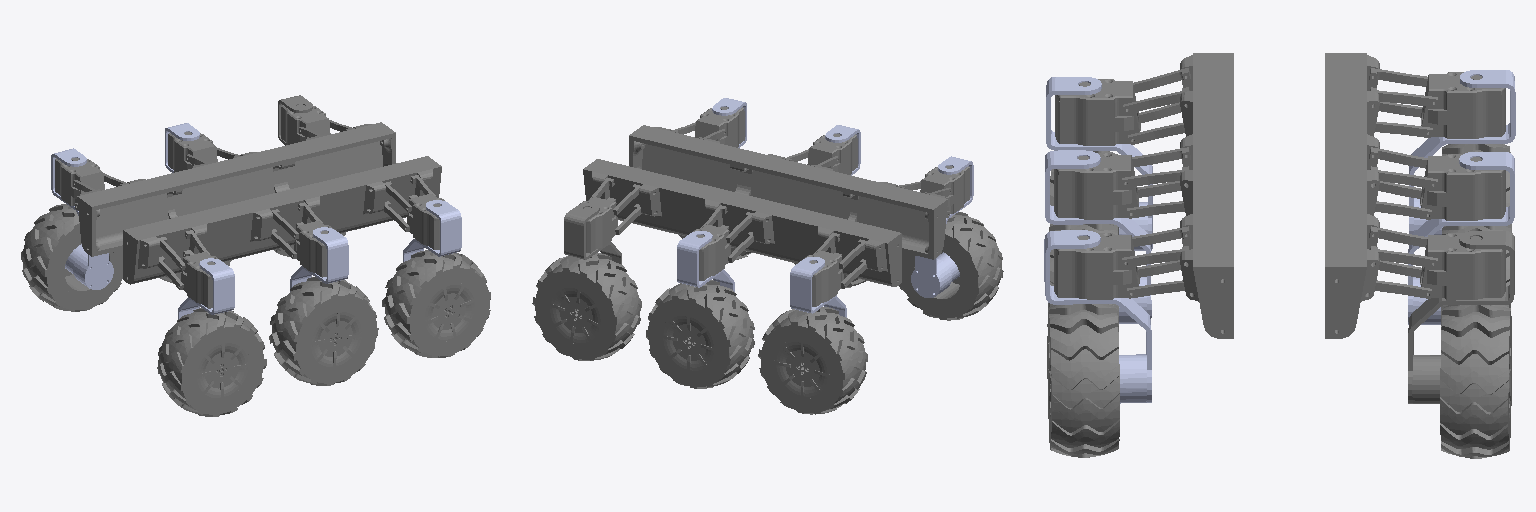
The robot description file, URDF, robot "argo_mini_urdf_6w_drive":
<?xml version="1.0" encoding="utf-8"?>
<!-- This URDF was automatically created by SolidWorks to URDF Exporter! Originally created by [author] ([email redacted]) 
     Commit Version: 1.6.0-1-g15f4949  Build Version: 1.6.7594.29634
     For more information, please see http://wiki.ros.org/sw_urdf_exporter -->
<robot
  name="argo_mini_urdf_6w_drive">
  <link
    name="drive_base">
    <inertial>
      <origin
        xyz="0.00874563254959665 -0.00236660328150901 -0.0490854383415856"
        rpy="0 0 0" />
      <mass
        value="1.44946621413433" />
      <inertia
        ixx="0.000848127350529093"
        ixy="-3.43805868688839E-10"
        ixz="-2.58382326226388E-06"
        iyy="0.00223379652936475"
        iyz="-1.68220537133253E-07"
        izz="0.00205727407895167" />
    </inertial>
    <visual>
      <origin
        xyz="0 0 0"
        rpy="0 0 0" />
      <geometry>
        <mesh
          filename="package://argo_mini_urdf_6w_drive/meshes/drive_base.STL" />
      </geometry>
      <material
        name="">
        <color
          rgba="0.564705882352941 0.564705882352941 0.564705882352941 1" />
      </material>
    </visual>
    <collision>
      <origin
        xyz="0 0 0"
        rpy="0 0 0" />
      <geometry>
        <mesh
          filename="package://argo_mini_urdf_6w_drive/meshes/drive_base.STL" />
      </geometry>
    </collision>
  </link>
  <link
    name="front_left_turn_link">
    <inertial>
      <origin
        xyz="-0.0202008319337566 -0.000537923907060631 0.108888065561637"
        rpy="0 0 0" />
      <mass
        value="0.0791651660643748" />
      <inertia
        ixx="8.14759788204637E-05"
        ixy="-1.4633291055377E-06"
        ixz="4.3701071628893E-05"
        iyy="0.000136389884985275"
        iyz="1.16370713166833E-06"
        izz="7.36288671954574E-05" />
    </inertial>
    <visual>
      <origin
        xyz="0 0 0"
        rpy="0 0 0" />
      <geometry>
        <mesh
          filename="package://argo_mini_urdf_6w_drive/meshes/front_left_turn_link.STL" />
      </geometry>
      <material
        name="">
        <color
          rgba="0.564705882352941 0.564705882352941 0.564705882352941 1" />
      </material>
    </visual>
    <collision>
      <origin
        xyz="0 0 0"
        rpy="0 0 0" />
      <geometry>
        <mesh
          filename="package://argo_mini_urdf_6w_drive/meshes/front_left_turn_link.STL" />
      </geometry>
    </collision>
  </link>
  <joint
    name="front_left_turn"
    type="revolute">
    <origin
      xyz="0.174999999976252 0.166487345210005 -0.0205134953134593"
      rpy="3.14159265358973 0 1.5707963267949" />
    <parent
      link="drive_base" />
    <child
      link="front_left_turn_link" />
    <axis
      xyz="0 0 1" />
    <limit
      lower="-3.14"
      upper="3.14"
      effort="100"
      velocity="3.14" />
  </joint>
  <link
    name="front_left_wheel_link">
    <inertial>
      <origin
        xyz="-0.000455402131096294 0.000455401371828285 0.0312563718756475"
        rpy="0 0 0" />
      <mass
        value="0.60129819266432" />
      <inertia
        ixx="0.000951600981300395"
        ixy="2.75877628912191E-08"
        ixz="6.32205201106246E-12"
        iyy="0.000951600976671848"
        iyz="1.04425032891631E-11"
        izz="0.00155374038149821" />
    </inertial>
    <visual>
      <origin
        xyz="0 0 0"
        rpy="0 0 0" />
      <geometry>
        <mesh
          filename="package://argo_mini_urdf_6w_drive/meshes/front_left_wheel_link.STL" />
      </geometry>
      <material
        name="">
        <color
          rgba="0.564705882352941 0.564705882352941 0.564705882352941 1" />
      </material>
    </visual>
    <collision>
      <origin
        xyz="0 0 0"
        rpy="0 0 0" />
      <geometry>
        <mesh
          filename="package://argo_mini_urdf_6w_drive/meshes/front_left_wheel_link.STL" />
      </geometry>
    </collision>
  </link>
  <joint
    name="front_left_wheel"
    type="continuous">
    <origin
      xyz="-0.0299893692365746 -0.000798580917134806 0.138500000000019"
      rpy="-1.5707963267947 -0.160752584870144 -1.54417381740566" />
    <parent
      link="front_left_turn_link" />
    <child
      link="front_left_wheel_link" />
    <axis
      xyz="0 0 -1" />
  </joint>
  <link
    name="front_right_turn_link">
    <inertial>
      <origin
        xyz="0.0201980896108885 -0.000632573365492203 0.10888806556058"
        rpy="0 0 0" />
      <mass
        value="0.0791651660643748" />
      <inertia
        ixx="8.14909084765224E-05"
        ixy="1.72091256971028E-06"
        ixz="-4.36951390792019E-05"
        iyy="0.000136385812542526"
        iyz="1.3684650711227E-06"
        izz="7.3618009982148E-05" />
    </inertial>
    <visual>
      <origin
        xyz="0 0 0"
        rpy="0 0 0" />
      <geometry>
        <mesh
          filename="package://argo_mini_urdf_6w_drive/meshes/front_right_turn_link.STL" />
      </geometry>
      <material
        name="">
        <color
          rgba="0.792156862745098 0.819607843137255 0.933333333333333 1" />
      </material>
    </visual>
    <collision>
      <origin
        xyz="0 0 0"
        rpy="0 0 0" />
      <geometry>
        <mesh
          filename="package://argo_mini_urdf_6w_drive/meshes/front_right_turn_link.STL" />
      </geometry>
    </collision>
  </link>
  <joint
    name="front_right_turn"
    type="revolute">
    <origin
      xyz="0.175000000022759 -0.178829853919777 -0.0200480862545637"
      rpy="3.14159265358964 0 1.5707963267949" />
    <parent
      link="drive_base" />
    <child
      link="front_right_turn_link" />
    <axis
      xyz="0 0 1" />
    <limit
      lower="-3.14"
      upper="3.14"
      effort="100"
      velocity="3.14" />
  </joint>
  <link
    name="front_right_wheel_link">
    <inertial>
      <origin
        xyz="0.000199018339452378 0.000612514003356546 0.0312563685802602"
        rpy="0 0 0" />
      <mass
        value="0.601298194339803" />
      <inertia
        ixx="0.000951623304607226"
        ixy="-1.62137429309689E-08"
        ixz="1.04244034516537E-11"
        iyy="0.000951578659069523"
        iyz="-5.15458315408172E-12"
        izz="0.00155374038618906" />
    </inertial>
    <visual>
      <origin
        xyz="0 0 0"
        rpy="0 0 0" />
      <geometry>
        <mesh
          filename="package://argo_mini_urdf_6w_drive/meshes/front_right_wheel_link.STL" />
      </geometry>
      <material
        name="">
        <color
          rgba="0.564705882352941 0.564705882352941 0.564705882352941 1" />
      </material>
    </visual>
    <collision>
      <origin
        xyz="0 0 0"
        rpy="0 0 0" />
      <geometry>
        <mesh
          filename="package://argo_mini_urdf_6w_drive/meshes/front_right_wheel_link.STL" />
      </geometry>
    </collision>
  </link>
  <joint
    name="front_right_wheel"
    type="continuous">
    <origin
      xyz="0.0299852980910073 -0.000939093798454305 0.138500000000011"
      rpy="-1.57079632679492 1.00237235232291 1.53948808645332" />
    <parent
      link="front_right_turn_link" />
    <child
      link="front_right_wheel_link" />
    <axis
      xyz="0 0 -1" />
  </joint>
  <link
    name="mid_left_turn_link">
    <inertial>
      <origin
        xyz="-0.0202067360647799 -0.000225367594505477 0.108888065559684"
        rpy="0 0 0" />
      <mass
        value="0.0791651660643748" />
      <inertia
        ixx="8.14438517875642E-05"
        ixy="-6.13252847421405E-07"
        ixz="4.37138442152049E-05"
        iyy="0.000136422012018174"
        iyz="4.87544593739856E-07"
        izz="7.36288671954575E-05" />
    </inertial>
    <visual>
      <origin
        xyz="0 0 0"
        rpy="0 0 0" />
      <geometry>
        <mesh
          filename="package://argo_mini_urdf_6w_drive/meshes/mid_left_turn_link.STL" />
      </geometry>
      <material
        name="">
        <color
          rgba="0.792156862745098 0.819607843137255 0.933333333333333 1" />
      </material>
    </visual>
    <collision>
      <origin
        xyz="0 0 0"
        rpy="0 0 0" />
      <geometry>
        <mesh
          filename="package://argo_mini_urdf_6w_drive/meshes/mid_left_turn_link.STL" />
      </geometry>
    </collision>
  </link>
  <joint
    name="mid_left_turn"
    type="revolute">
    <origin
      xyz="0.00999999997632967 0.166445170850159 -0.0207342759100906"
      rpy="-3.14159265358978 0 1.5707963267949" />
    <parent
      link="drive_base" />
    <child
      link="mid_left_turn_link" />
    <axis
      xyz="0 0 1" />
    <limit
      lower="-3.14"
      upper="3.14"
      effort="100"
      velocity="3.14" />
  </joint>
  <link
    name="mid_left_wheel_link">
    <inertial>
      <origin
        xyz="-0.000199018193523415 0.000612513923196736 0.0312563718801634"
        rpy="0 0 0" />
      <mass
        value="0.601298189593992" />
      <inertia
        ixx="0.000951623298197635"
        ixy="1.62158244190196E-08"
        ixz="9.64173895210514E-12"
        iyy="0.000951578651208246"
        iyz="6.41678092749352E-12"
        izz="0.00155374037277378" />
    </inertial>
    <visual>
      <origin
        xyz="0 0 0"
        rpy="0 0 0" />
      <geometry>
        <mesh
          filename="package://argo_mini_urdf_6w_drive/meshes/mid_left_wheel_link.STL" />
      </geometry>
      <material
        name="">
        <color
          rgba="0.564705882352941 0.564705882352941 0.564705882352941 1" />
      </material>
    </visual>
    <collision>
      <origin
        xyz="0 0 0"
        rpy="0 0 0" />
      <geometry>
        <mesh
          filename="package://argo_mini_urdf_6w_drive/meshes/mid_left_wheel_link.STL" />
      </geometry>
    </collision>
  </link>
  <joint
    name="mid_left_wheel"
    type="continuous">
    <origin
      xyz="-0.0299981342803504 -0.000334571974733133 0.138499999999992"
      rpy="-1.57079632679484 0 -1.5596436956655" />
    <parent
      link="mid_left_turn_link" />
    <child
      link="mid_left_wheel_link" />
    <axis
      xyz="0 0 -1" />
  </joint>
  <link
    name="mid_right_turn_link">
    <inertial>
      <origin
        xyz="0.0202054933275991 -0.000317824430780766 0.108888065561104"
        rpy="0 0 0" />
      <mass
        value="0.0791651660643748" />
      <inertia
        ixx="8.14506148607155E-05"
        ixy="8.64785889730204E-07"
        ixz="-4.37111557636445E-05"
        iyy="0.000136415248945023"
        iyz="6.87559167265988E-07"
        izz="7.36288671954574E-05" />
    </inertial>
    <visual>
      <origin
        xyz="0 0 0"
        rpy="0 0 0" />
      <geometry>
        <mesh
          filename="package://argo_mini_urdf_6w_drive/meshes/mid_right_turn_link.STL" />
      </geometry>
      <material
        name="">
        <color
          rgba="0.792156862745098 0.819607843137255 0.933333333333333 1" />
      </material>
    </visual>
    <collision>
      <origin
        xyz="0 0 0"
        rpy="0 0 0" />
      <geometry>
        <mesh
          filename="package://argo_mini_urdf_6w_drive/meshes/mid_right_turn_link.STL" />
      </geometry>
    </collision>
  </link>
  <joint
    name="mid_right_turn"
    type="revolute">
    <origin
      xyz="0.0100000000230957 -0.178931335517903 -0.0194653864671764"
      rpy="3.14159265358964 0 1.5707963267949" />
    <parent
      link="drive_base" />
    <child
      link="mid_right_turn_link" />
    <axis
      xyz="0 0 1" />
    <limit
      lower="-3.14"
      upper="3.14"
      effort="100"
      velocity="3.14" />
  </joint>
  <link
    name="mid_right_wheel_link">
    <inertial>
      <origin
        xyz="0.000100749668739047 0.000636106131368608 0.0312563686421631"
        rpy="0 0 0" />
      <mass
        value="0.601298190237914" />
      <inertia
        ixx="0.000951627216739043"
        ixy="-8.52421417099728E-09"
        ixz="1.1094018498256E-11"
        iyy="0.000951574734605343"
        iyz="-4.57742884852605E-12"
        izz="0.00155374037481326" />
    </inertial>
    <visual>
      <origin
        xyz="0 0 0"
        rpy="0 0 0" />
      <geometry>
        <mesh
          filename="package://argo_mini_urdf_6w_drive/meshes/mid_right_wheel_link.STL" />
      </geometry>
      <material
        name="">
        <color
          rgba="0.564705882352941 0.564705882352941 0.564705882352941 1" />
      </material>
    </visual>
    <collision>
      <origin
        xyz="0 0 0"
        rpy="0 0 0" />
      <geometry>
        <mesh
          filename="package://argo_mini_urdf_6w_drive/meshes/mid_right_wheel_link.STL" />
      </geometry>
    </collision>
  </link>
  <joint
    name="mid_right_wheel"
    type="continuous">
    <origin
      xyz="0.0299962893606927 -0.000471829774504273 0.138500000000007"
      rpy="-1.57079632679496 1.48302497084392 1.55506801995247" />
    <parent
      link="mid_right_turn_link" />
    <child
      link="mid_right_wheel_link" />
    <axis
      xyz="0 0 -1" />
  </joint>
  <link
    name="rear_left_turn_link">
    <inertial>
      <origin
        xyz="-0.0202051907412302 0.000336511665076922 0.108888065562788"
        rpy="0 0 0" />
      <mass
        value="0.0791651660643748" />
      <inertia
        ixx="8.14522614973296E-05"
        ixy="9.15619300051283E-07"
        ixz="4.37105011689119E-05"
        iyy="0.000136413602308409"
        iyz="-7.27985827222633E-07"
        izz="7.36288671954575E-05" />
    </inertial>
    <visual>
      <origin
        xyz="0 0 0"
        rpy="0 0 0" />
      <geometry>
        <mesh
          filename="package://argo_mini_urdf_6w_drive/meshes/rear_left_turn_link.STL" />
      </geometry>
      <material
        name="">
        <color
          rgba="0.792156862745098 0.819607843137255 0.933333333333333 1" />
      </material>
    </visual>
    <collision>
      <origin
        xyz="0 0 0"
        rpy="0 0 0" />
      <geometry>
        <mesh
          filename="package://argo_mini_urdf_6w_drive/meshes/rear_left_turn_link.STL" />
      </geometry>
    </collision>
  </link>
  <joint
    name="rear_left_turn"
    type="revolute">
    <origin
      xyz="-0.155000000023439 0.166865369910765 -0.0182489865369013"
      rpy="-3.14159265358978 0 1.5707963267949" />
    <parent
      link="drive_base" />
    <child
      link="rear_left_turn_link" />
    <axis
      xyz="0 0 1" />
    <limit
      lower="-3.14"
      upper="3.14"
      effort="100"
      velocity="3.14" />
  </joint>
  <link
    name="rear_left_wheel_link">
    <inertial>
      <origin
        xyz="-0.000100749969724923 0.000636106358418861 0.0312563719226248"
        rpy="0 0 0" />
      <mass
        value="0.601298196689103" />
      <inertia
        ixx="0.000951627224353808"
        ixy="8.52510039254024E-09"
        ixz="1.12859946929856E-11"
        iyy="0.000951574745715636"
        iyz="3.2311138200684E-12"
        izz="0.00155374039262574" />
    </inertial>
    <visual>
      <origin
        xyz="0 0 0"
        rpy="0 0 0" />
      <geometry>
        <mesh
          filename="package://argo_mini_urdf_6w_drive/meshes/rear_left_wheel_link.STL" />
      </geometry>
      <material
        name="">
        <color
          rgba="0.564705882352941 0.564705882352941 0.564705882352941 1" />
      </material>
    </visual>
    <collision>
      <origin
        xyz="0 0 0"
        rpy="0 0 0" />
      <geometry>
        <mesh
          filename="package://argo_mini_urdf_6w_drive/meshes/rear_left_wheel_link.STL" />
      </geometry>
    </collision>
  </link>
  <joint
    name="rear_left_wheel"
    type="continuous">
    <origin
      xyz="-0.0299958401524058 0.00049957211555629 0.138500000000013"
      rpy="-1.57079632679483 0 -1.5874494995914" />
    <parent
      link="rear_left_turn_link" />
    <child
      link="rear_left_wheel_link" />
    <axis
      xyz="0 0 -1" />
  </joint>
  <link
    name="rear_right_turn_link">
    <inertial>
      <origin
        xyz="0.0202065674134458 0.00024001318633643 0.108888065561637"
        rpy="0 0 0" />
      <mass
        value="0.0791651660643748" />
      <inertia
        ixx="8.14447696282363E-05"
        ixy="-6.53099842711284E-07"
        ixz="-4.37134793655911E-05"
        iyy="0.000136421094177492"
        iyz="-5.19227846136187E-07"
        izz="7.36288671954679E-05" />
    </inertial>
    <visual>
      <origin
        xyz="0 0 0"
        rpy="0 0 0" />
      <geometry>
        <mesh
          filename="package://argo_mini_urdf_6w_drive/meshes/rear_right_turn_link.STL" />
      </geometry>
      <material
        name="">
        <color
          rgba="0.792156862745098 0.819607843137255 0.933333333333333 1" />
      </material>
    </visual>
    <collision>
      <origin
        xyz="0 0 0"
        rpy="0 0 0" />
      <geometry>
        <mesh
          filename="package://argo_mini_urdf_6w_drive/meshes/rear_right_turn_link.STL" />
      </geometry>
    </collision>
  </link>
  <joint
    name="rear_right_turn"
    type="revolute">
    <origin
      xyz="-0.154999999976742 -0.177723968827907 -0.0249018780713352"
      rpy="3.14159265358964 0 1.5707963267949" />
    <parent
      link="drive_base" />
    <child
      link="rear_right_turn_link" />
    <axis
      xyz="0 0 1" />
    <limit
      lower="-3.14"
      upper="3.14"
      effort="100"
      velocity="3.14" />
  </joint>
  <link
    name="rear_right_wheel_link">
    <inertial>
      <origin
        xyz="4.42568634517748E-10 0.000644035501771834 0.0312563685822128"
        rpy="0 0 0" />
      <mass
        value="0.601298194105251" />
      <inertia
        ixx="0.000951628571372633"
        ixy="4.1625716138945E-12"
        ixz="1.12725616255066E-11"
        iyy="0.000951573391586144"
        iyz="-1.93288819601593E-12"
        izz="0.00155374038542954" />
    </inertial>
    <visual>
      <origin
        xyz="0 0 0"
        rpy="0 0 0" />
      <geometry>
        <mesh
          filename="package://argo_mini_urdf_6w_drive/meshes/rear_right_wheel_link.STL" />
      </geometry>
      <material
        name="">
        <color
          rgba="0.564705882352941 0.564705882352941 0.564705882352941 1" />
      </material>
    </visual>
    <collision>
      <origin
        xyz="0 0 0"
        rpy="0 0 0" />
      <geometry>
        <mesh
          filename="package://argo_mini_urdf_6w_drive/meshes/rear_right_wheel_link.STL" />
      </geometry>
    </collision>
  </link>
  <joint
    name="rear_right_wheel"
    type="continuous">
    <origin
      xyz="0.0299978839064289 0.000356314250609557 0.13850000000001"
      rpy="1.57079632678987 -1.54577220906003 -1.55891890506383" />
    <parent
      link="rear_right_turn_link" />
    <child
      link="rear_right_wheel_link" />
    <axis
      xyz="0 0 -1" />
  </joint>
</robot>

--- What the picture shows (computed from the rendered views, not written in the file) ---
Views: 3 orthographic renders of the robot side by side, from view 1: azimuth 30°, elevation 25°; view 2: azimuth 150°, elevation 25°; view 3: azimuth 270°, elevation 25°.
Robot: argo_mini_urdf_6w_drive — 13 links, 12 joints (6 revolute, 6 continuous); root link drive_base; default pose: every joint at zero.
Visible links, largest first — view 1: drive_base, rear_right_wheel_link, mid_right_wheel_link, front_right_wheel_link, rear_left_wheel_link, rear_left_turn_link, mid_right_turn_link, front_right_turn_link, rear_right_turn_link, mid_left_turn_link; view 2: drive_base, rear_left_wheel_link, mid_left_wheel_link, front_left_wheel_link, rear_right_wheel_link, rear_right_turn_link, front_left_turn_link, mid_left_turn_link, rear_left_turn_link, mid_right_turn_link; view 3: drive_base, front_right_wheel_link, front_left_wheel_link, front_left_turn_link, front_right_turn_link, mid_left_turn_link, mid_right_turn_link, rear_left_turn_link, rear_right_turn_link, rear_left_wheel_link, mid_right_wheel_link, mid_left_wheel_link.
Link boxes in pixels (bbox=[...]): drive_base: bbox=[55, 104, 444, 308]; rear_right_wheel_link: bbox=[157, 308, 266, 416]; mid_right_wheel_link: bbox=[269, 277, 378, 385]; front_right_wheel_link: bbox=[382, 250, 490, 357]; rear_left_wheel_link: bbox=[21, 204, 122, 311]; rear_left_turn_link: bbox=[51, 148, 113, 289]; mid_right_turn_link: bbox=[290, 227, 348, 291]; front_right_turn_link: bbox=[403, 200, 461, 261]; rear_right_turn_link: bbox=[178, 258, 234, 319]; mid_left_turn_link: bbox=[165, 123, 199, 172]; drive_base: bbox=[579, 107, 969, 306]; rear_left_wheel_link: bbox=[758, 307, 867, 414]; mid_left_wheel_link: bbox=[646, 280, 754, 388]; front_left_wheel_link: bbox=[532, 253, 641, 360]; rear_right_wheel_link: bbox=[899, 212, 1003, 320]; rear_right_turn_link: bbox=[911, 156, 973, 297]; front_left_turn_link: bbox=[564, 203, 621, 264]; mid_left_turn_link: bbox=[677, 231, 734, 291]; rear_left_turn_link: bbox=[790, 257, 846, 317]; mid_right_turn_link: bbox=[825, 125, 860, 175]; drive_base: bbox=[1054, 53, 1505, 338]; front_right_wheel_link: bbox=[1047, 304, 1119, 457]; front_left_wheel_link: bbox=[1440, 305, 1511, 458]; front_left_turn_link: bbox=[1408, 231, 1514, 403]; front_right_turn_link: bbox=[1044, 230, 1151, 403]; mid_left_turn_link: bbox=[1408, 152, 1514, 324]; mid_right_turn_link: bbox=[1045, 150, 1151, 323]; rear_left_turn_link: bbox=[1409, 70, 1515, 234]; rear_right_turn_link: bbox=[1046, 77, 1152, 250]; rear_left_wheel_link: bbox=[1442, 144, 1511, 232]; mid_right_wheel_link: bbox=[1048, 224, 1118, 331]; mid_left_wheel_link: bbox=[1441, 226, 1510, 329].
Size in the robot's own frame: 0.4705 by 0.4144 by 0.2141 metres.
13 mesh visuals loaded from 13 distinct referenced files (13 binary STL).